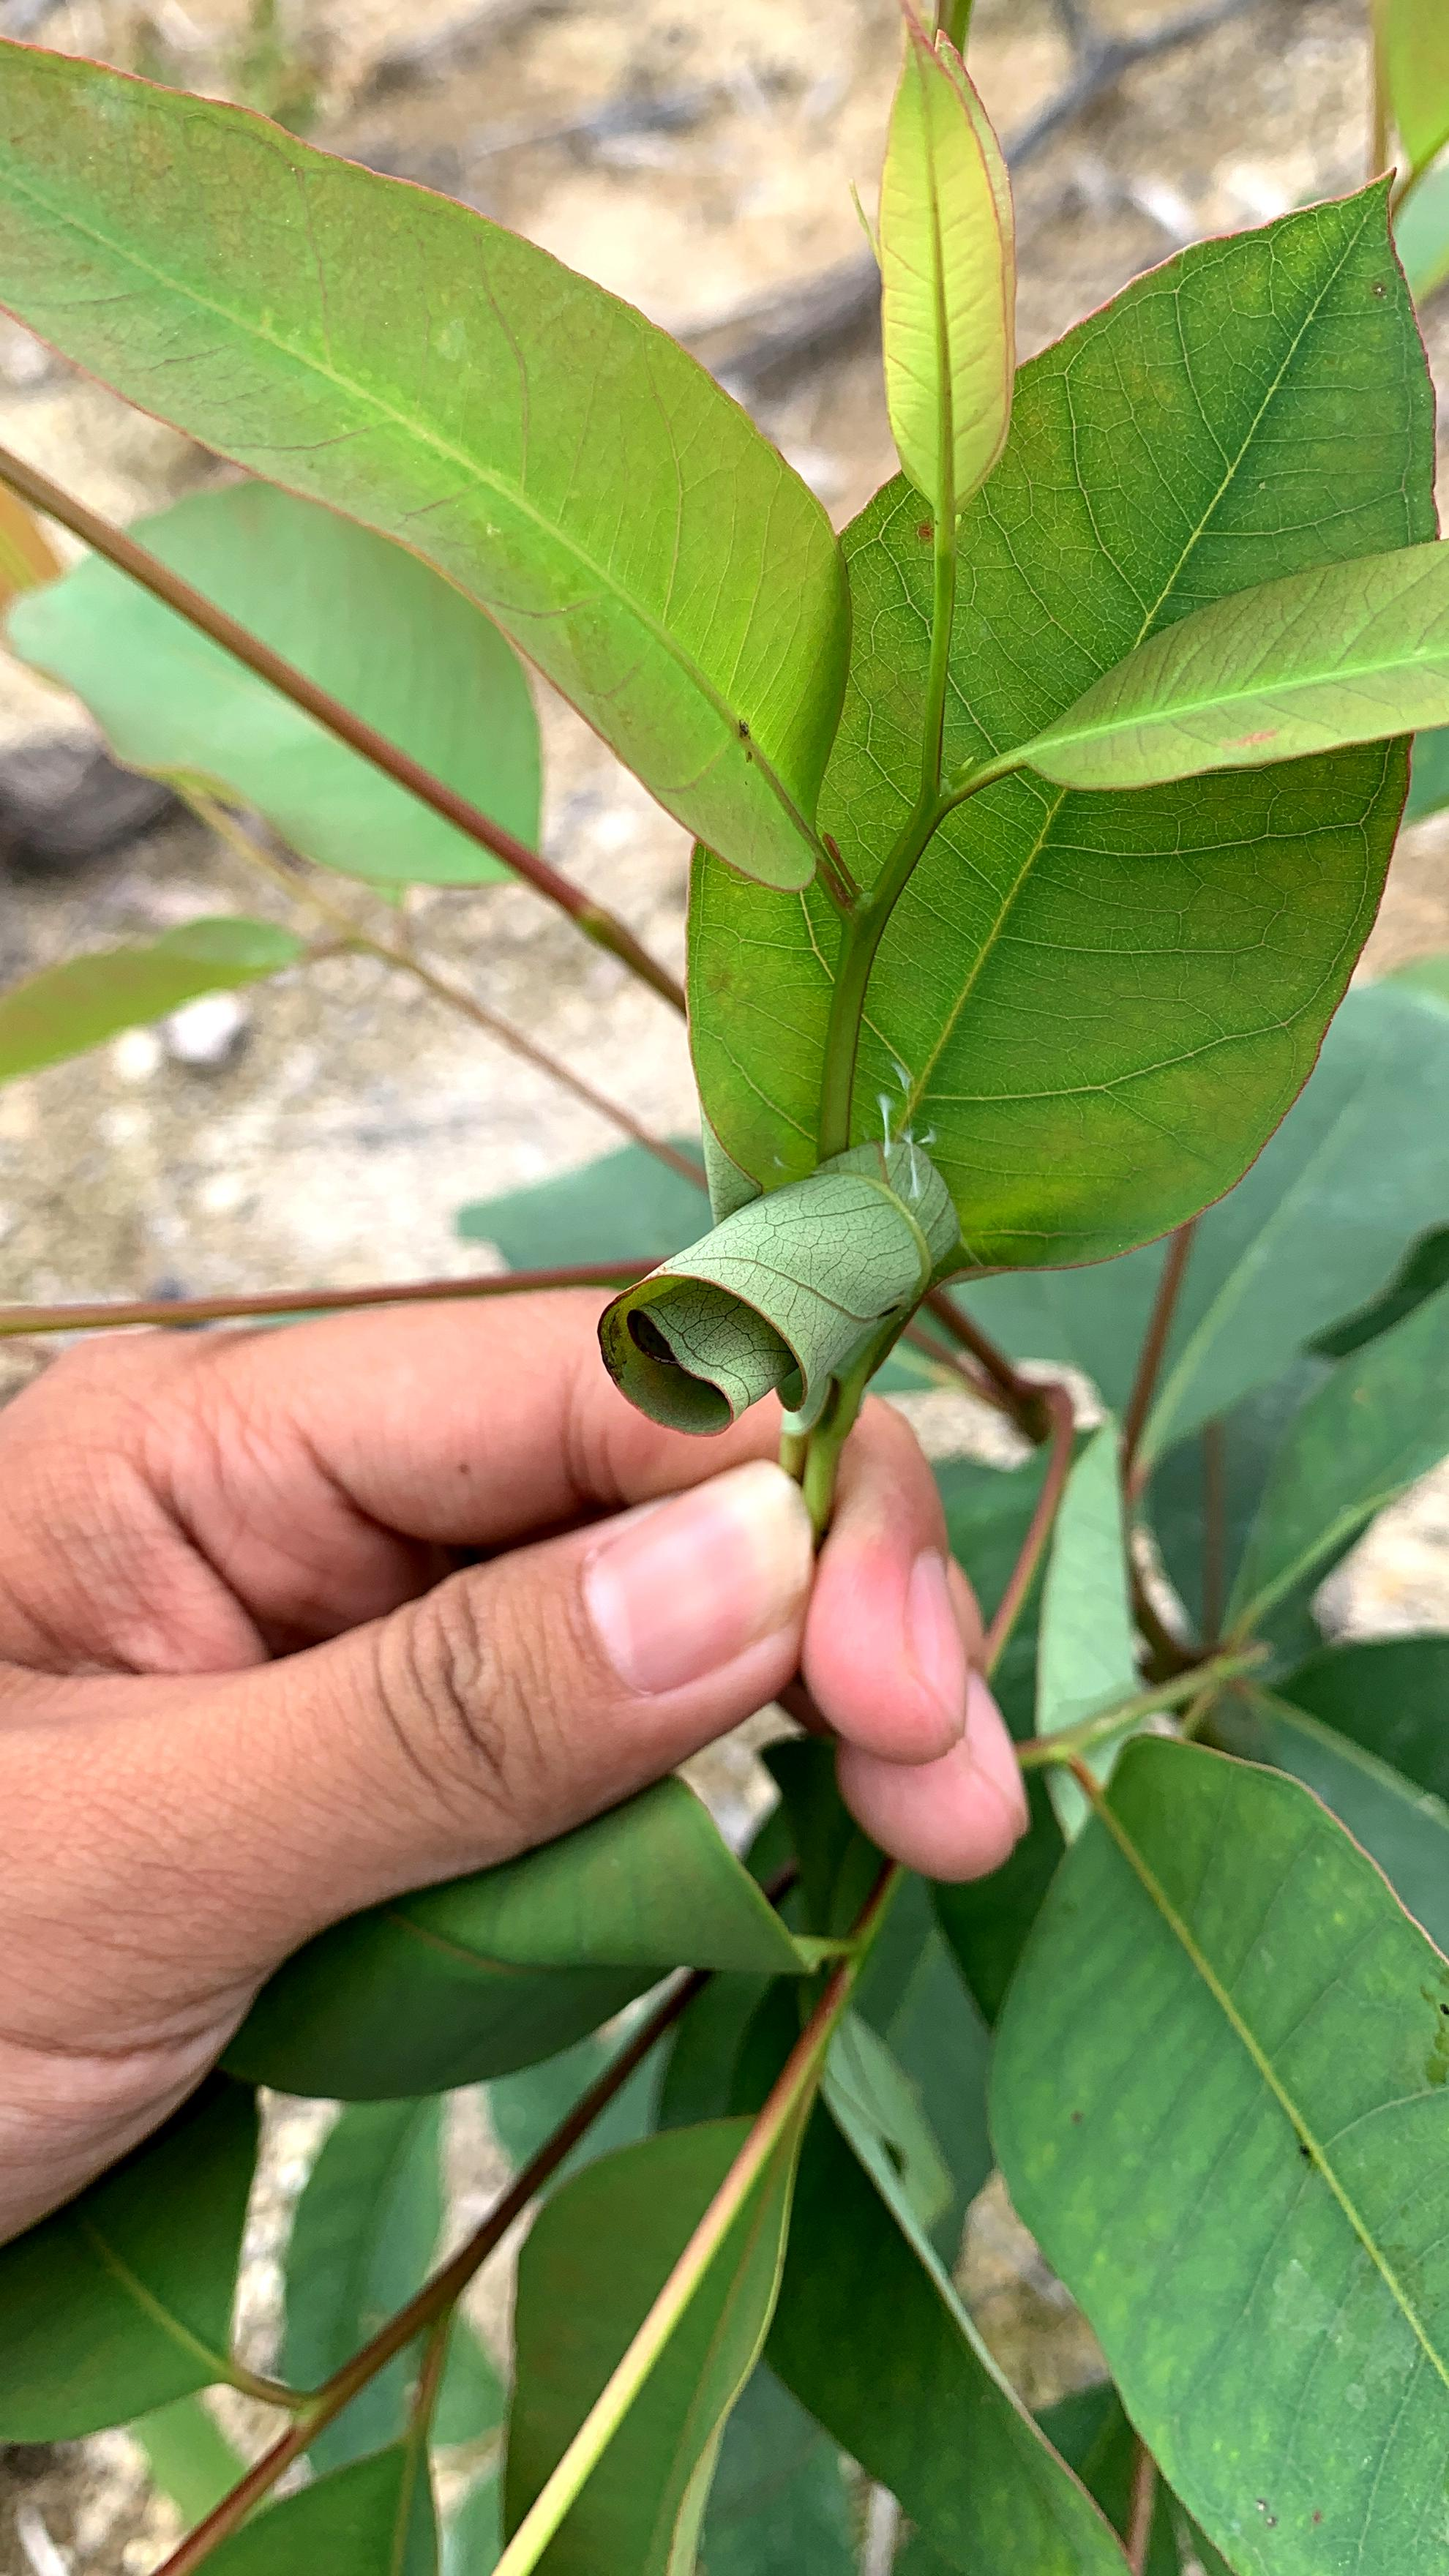Leaf Roller - Leaf: (582, 1077, 989, 1530)
